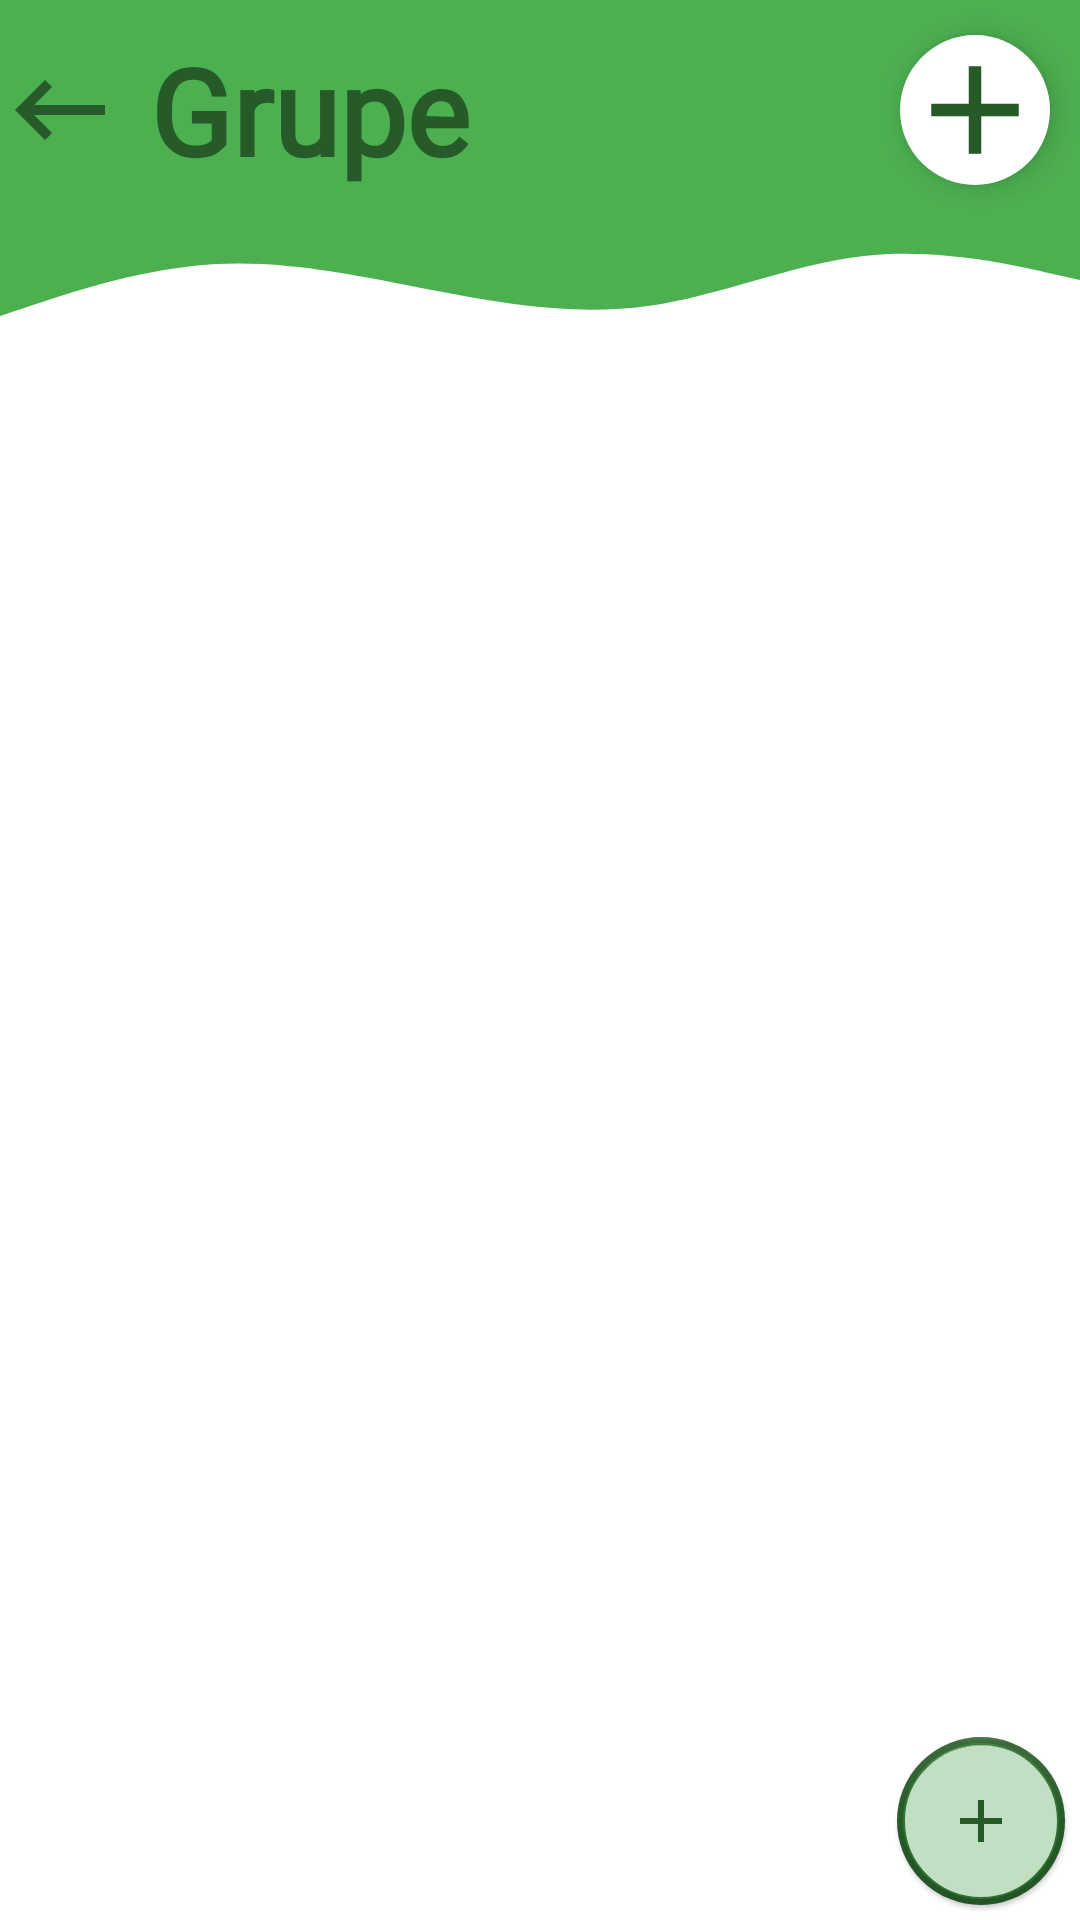

Locate icon controls on the screen. Image size 1080*1920, boxes as {"x1": x1, "y1": y1, "x2": x2, "y2": y2}.
add group: {"x1": 900, "y1": 35, "x2": 1050, "y2": 185}, {"x1": 897, "y1": 1737, "x2": 1065, "y2": 1905}
back: {"x1": 15, "y1": 80, "x2": 105, "y2": 140}
